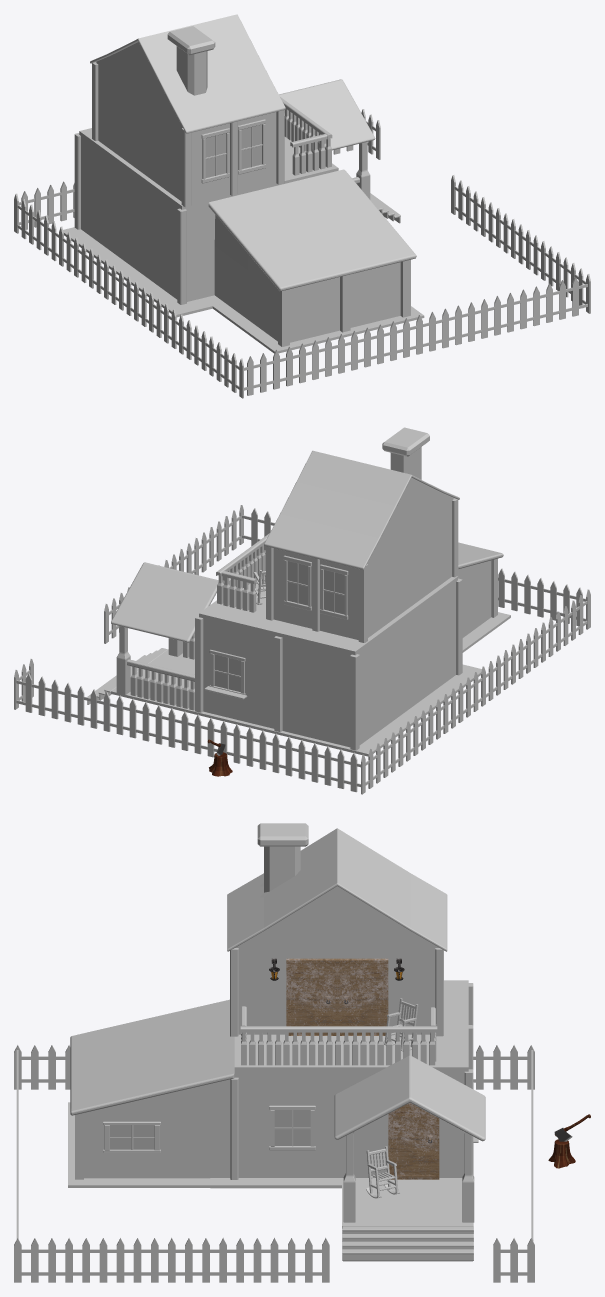
Rendered from House.fbx.
3 views of the same model, one above another, from view 1: azimuth 30°, elevation 25°; view 2: azimuth 150°, elevation 25°; view 3: azimuth 270°, elevation 25° (orthographic). The views are drawn at different scales.
Visible parts, largest first — view 1: polySurface76; view 2: polySurface76; view 3: polySurface76.
Boxes of the visible parts, x1,y1,x2,y2 form: polySurface76: [14, 14, 590, 398]; polySurface76: [14, 427, 590, 794]; polySurface76: [14, 823, 590, 1282].
Size of the model in its own units: 53.6 by 38.75 by 67.43.
